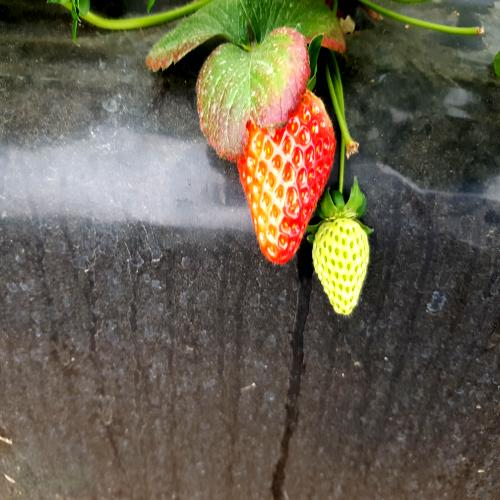ripe: (236, 69, 332, 268)
